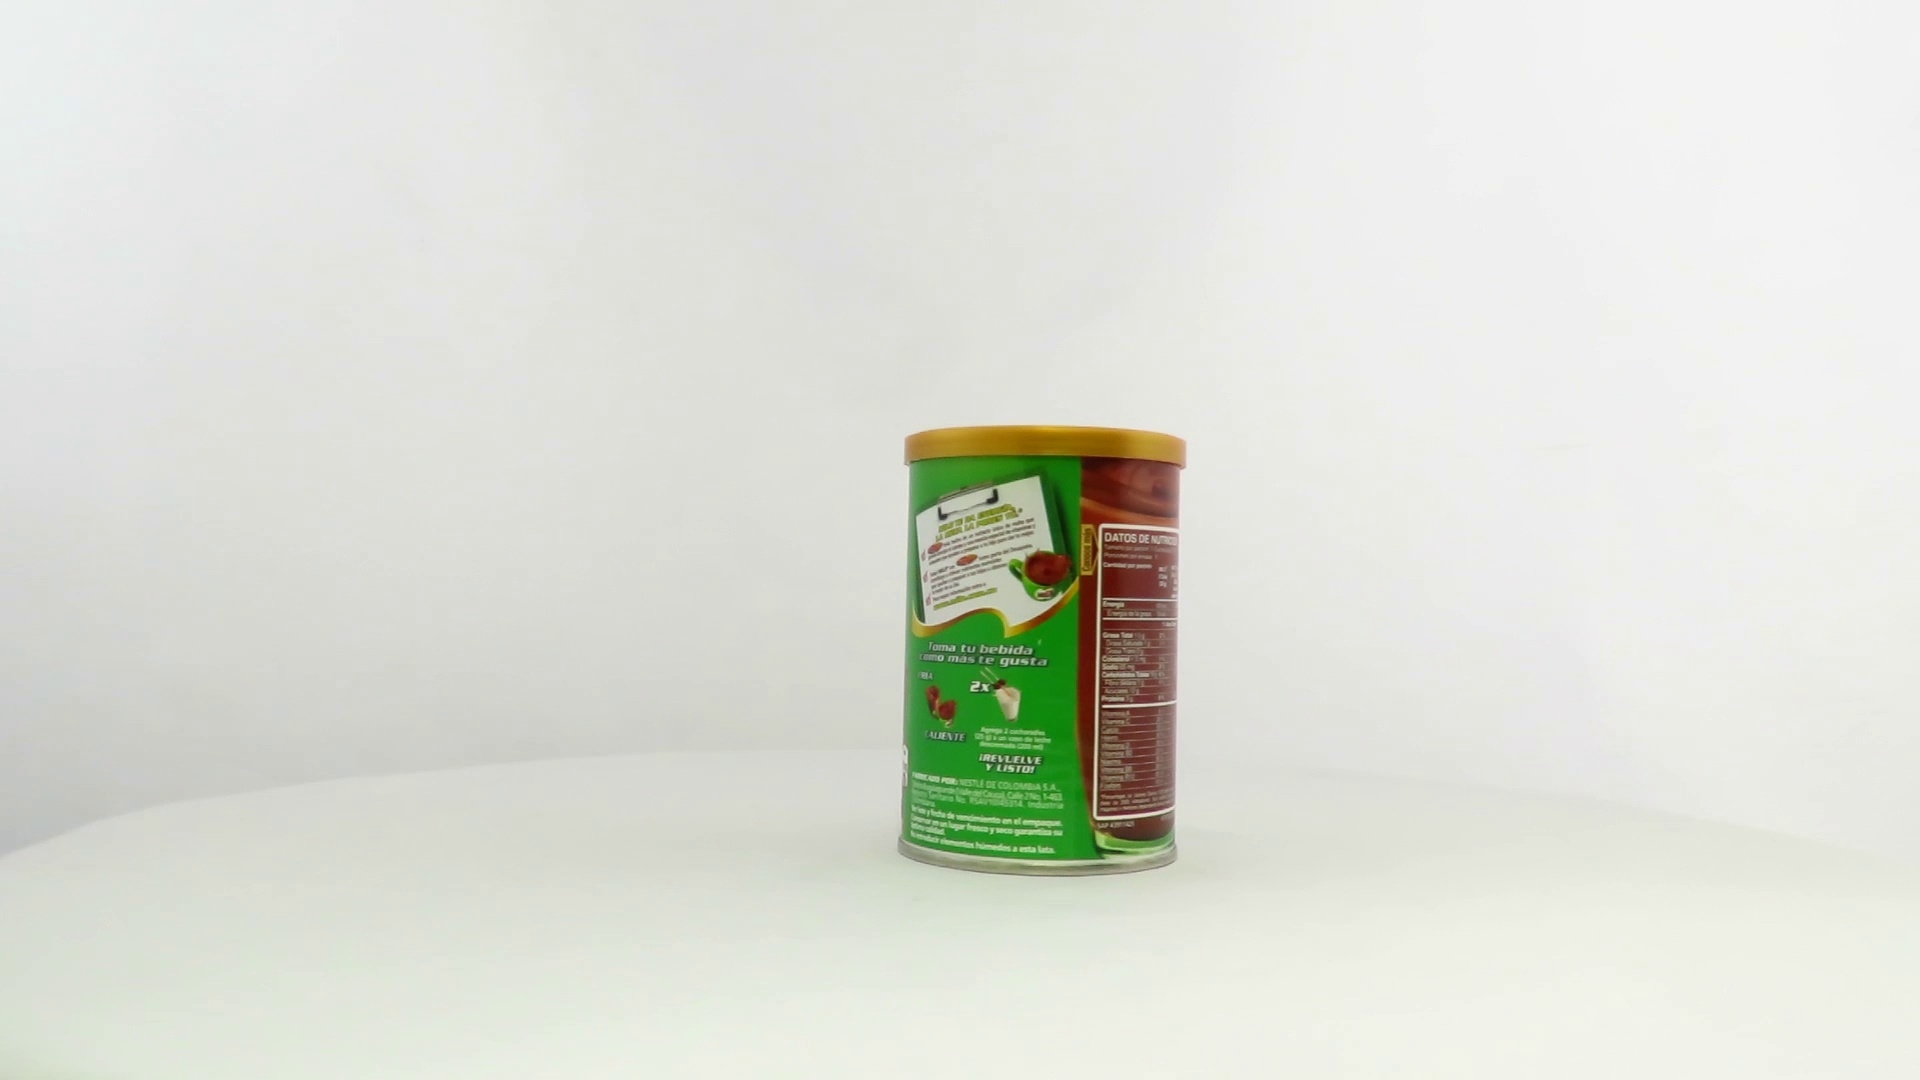COL0170203LAT20000: (891, 419, 1193, 884)
